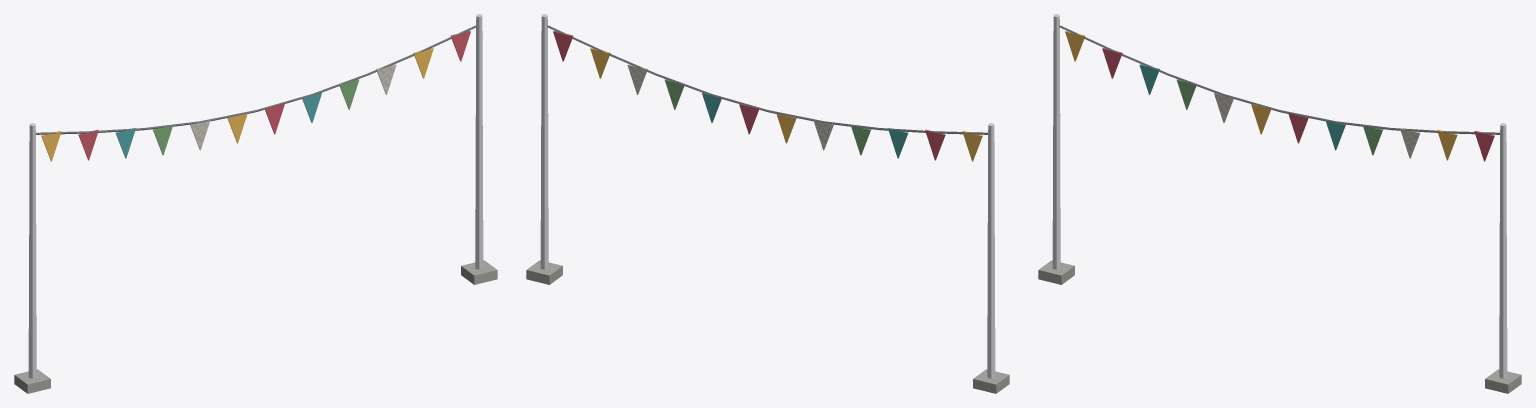
Rendered from indian-bazaar-street-and-temple-bunting-line-59765e99__36577.glb.
3 views of the same model, side by side, from view 1: azimuth 30°, elevation 25°; view 2: azimuth 150°, elevation 25°; view 3: azimuth 330°, elevation 25° (orthographic).
Visible parts, largest first — view 1: bunting-line-steel, bunting-line-stone, bunting-line-charcoal, bunting-line-saffron, bunting-line-crimson, bunting-line-teal, bunting-line-plaster, bunting-line-leaf; view 2: bunting-line-steel, bunting-line-stone, bunting-line-charcoal, bunting-line-saffron, bunting-line-crimson, bunting-line-teal, bunting-line-plaster, bunting-line-leaf; view 3: bunting-line-steel, bunting-line-stone, bunting-line-charcoal, bunting-line-crimson, bunting-line-saffron, bunting-line-plaster, bunting-line-teal, bunting-line-leaf.
Boxes of the visible parts, x1,y1,x2,y2 form: bunting-line-steel: (28, 14, 483, 378); bunting-line-stone: (14, 260, 497, 393); bunting-line-charcoal: (36, 25, 476, 134); bunting-line-saffron: (41, 48, 433, 161); bunting-line-crimson: (78, 31, 470, 160); bunting-line-teal: (115, 92, 321, 158); bunting-line-plaster: (190, 64, 396, 150); bunting-line-leaf: (152, 79, 359, 155); bunting-line-steel: (540, 14, 995, 378); bunting-line-stone: (526, 260, 1009, 393); bunting-line-charcoal: (547, 25, 987, 134); bunting-line-saffron: (590, 48, 982, 161); bunting-line-crimson: (553, 31, 945, 160); bunting-line-teal: (702, 92, 908, 158); bunting-line-plaster: (627, 64, 833, 150); bunting-line-leaf: (664, 79, 871, 155); bunting-line-steel: (1052, 14, 1507, 378); bunting-line-stone: (1038, 260, 1521, 393); bunting-line-charcoal: (1059, 25, 1499, 134); bunting-line-crimson: (1102, 48, 1494, 161); bunting-line-saffron: (1065, 31, 1457, 160); bunting-line-plaster: (1214, 92, 1420, 158); bunting-line-teal: (1139, 64, 1345, 150); bunting-line-leaf: (1176, 79, 1383, 155).
Bounding box in the file's own units: 5.26 × 2.8 × 0.2601.
8 materials, 2 textured.
